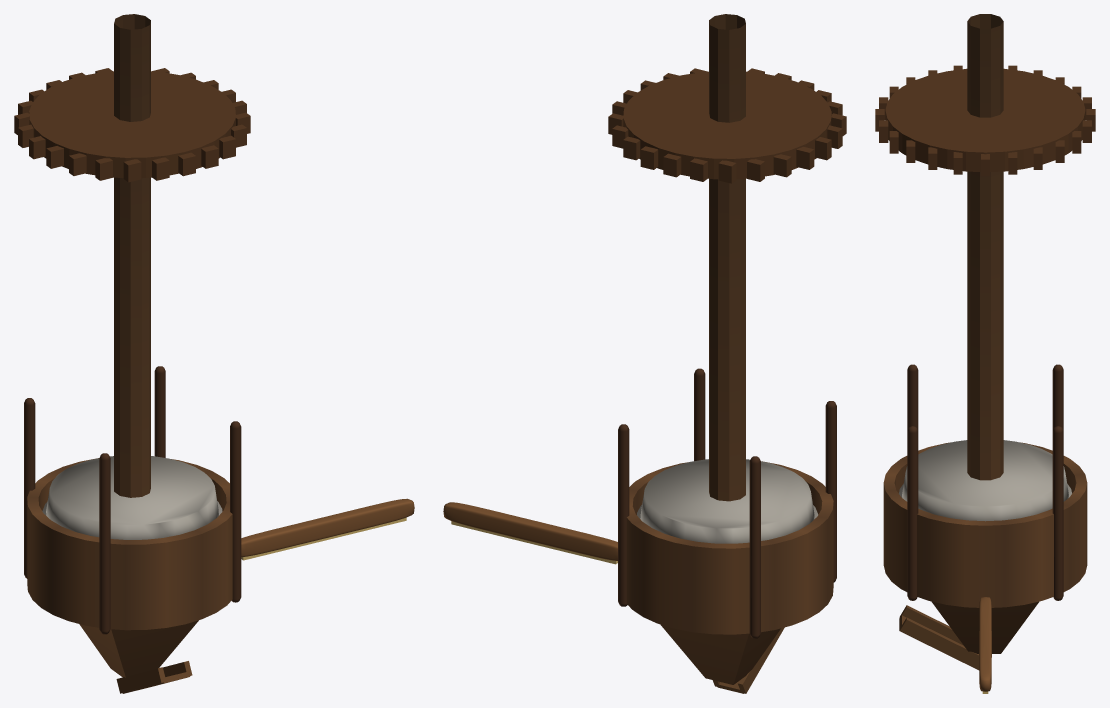
The model's file is MillKit.glb.
3 views of the same model, side by side, from view 1: azimuth 30°, elevation 25°; view 2: azimuth 150°, elevation 25°; view 3: azimuth 270°, elevation 25° (orthographic). The views are drawn at different scales.
Visible parts, largest first — view 1: Tun, Gear, ShaftWood, RunnerStone, HopperFrame, SweepArm, Funnel, Chute; view 2: Tun, Gear, ShaftWood, RunnerStone, HopperFrame, SweepArm, Funnel, Chute; view 3: Tun, Gear, ShaftWood, RunnerStone, HopperFrame, Funnel, Chute, SweepArm.
Boxes of the visible parts, <box> form: Tun: <box>27,458,232,630</box>; Gear: <box>14,68,250,182</box>; ShaftWood: <box>114,14,150,497</box>; RunnerStone: <box>46,456,218,539</box>; HopperFrame: <box>24,366,241,634</box>; SweepArm: <box>241,498,414,556</box>; Funnel: <box>79,620,198,677</box>; Chute: <box>116,661,192,693</box>; Tun: <box>626,461,833,634</box>; Gear: <box>608,68,846,183</box>; ShaftWood: <box>709,14,745,501</box>; RunnerStone: <box>640,459,814,543</box>; HopperFrame: <box>618,368,836,638</box>; SweepArm: <box>443,502,617,560</box>; Funnel: <box>661,625,780,684</box>; Chute: <box>712,627,784,693</box>; Tun: <box>883,442,1087,607</box>; Gear: <box>875,65,1095,175</box>; ShaftWood: <box>967,14,1003,480</box>; RunnerStone: <box>902,440,1068,521</box>; HopperFrame: <box>907,364,1063,600</box>; Funnel: <box>932,601,1038,653</box>; Chute: <box>899,605,979,670</box>; SweepArm: <box>979,597,991,691</box>.
Bounding box in the file's own units: 2.34 × 3.9 × 1.21.
